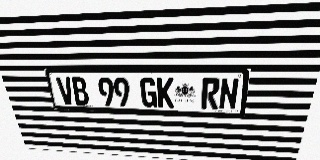9: (97, 77, 116, 106), (113, 77, 131, 107)
B: (70, 77, 90, 105)
G: (140, 77, 157, 107)
K: (157, 78, 174, 108)
N: (219, 78, 240, 110)
R: (201, 78, 220, 109)
V: (56, 77, 76, 105)
